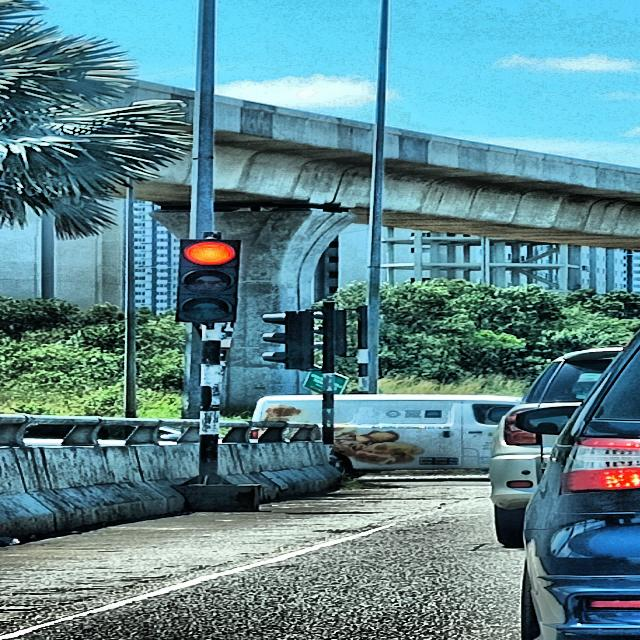red: (176, 240, 241, 324)
